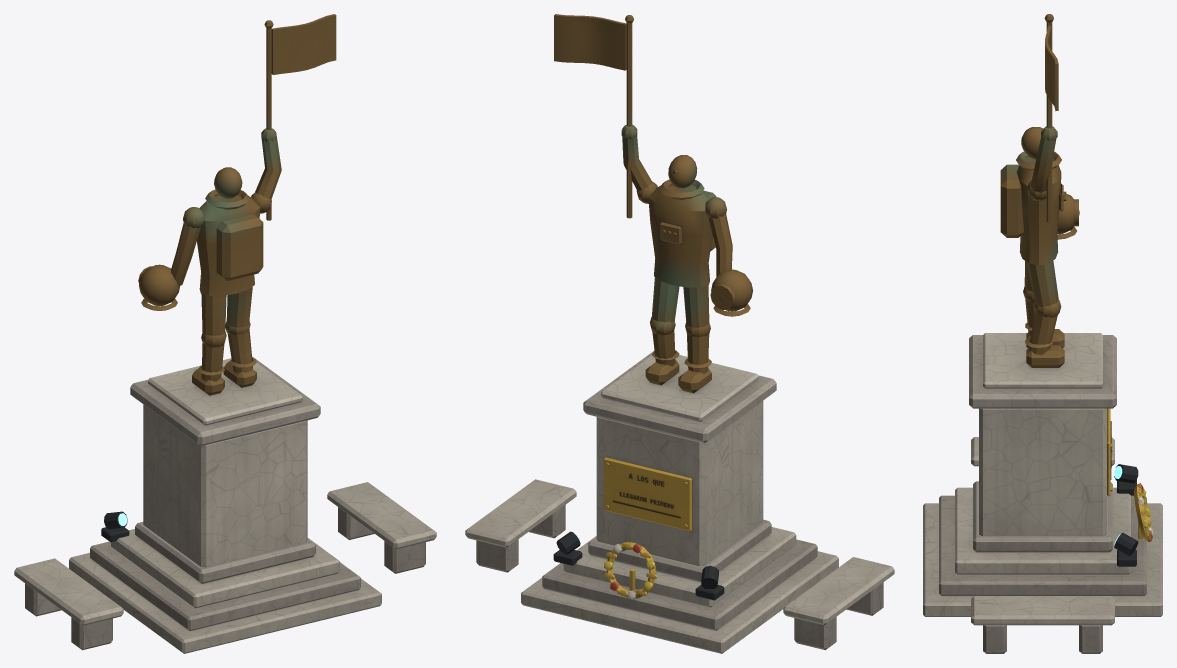
Rendered from monumento_fundadores.fbx.
3 renders of one model, left to right at view 1: azimuth 30°, elevation 25°; view 2: azimuth 150°, elevation 25°; view 3: azimuth 270°, elevation 25°, orthographic. The views are drawn at different scales.
Visible parts, largest first — view 1: monumento_fundadores; view 2: monumento_fundadores; view 3: monumento_fundadores.
Boxes of the visible parts, left/top/right/bottom form: monumento_fundadores: left=14, top=14, right=436, bottom=653; monumento_fundadores: left=465, top=14, right=894, bottom=653; monumento_fundadores: left=923, top=14, right=1162, bottom=653.
Bounding box in the file's own units: 5.35 × 7.96 × 3.
2 materials, 1 textured.
